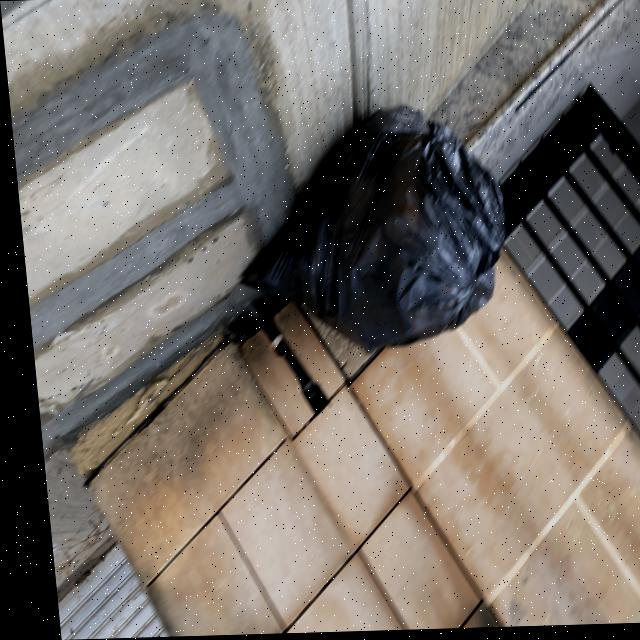Mixed Waste -Black Bag-: (220, 99, 521, 357)
